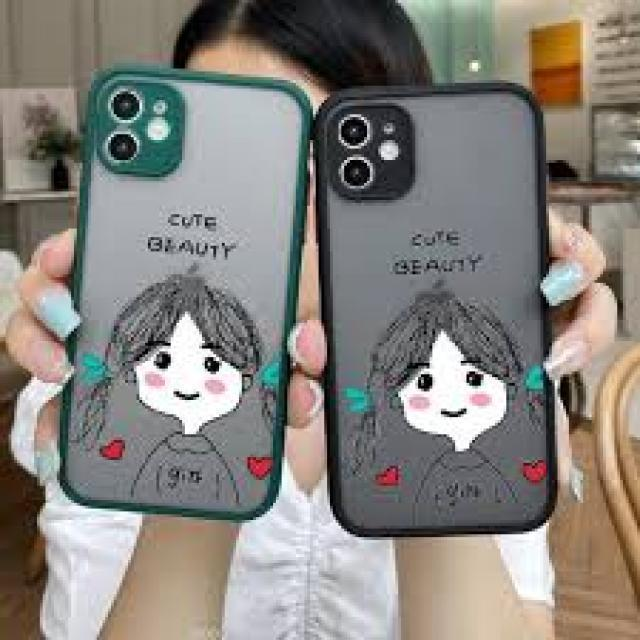lens: (98, 82, 186, 173), (325, 104, 412, 194)
phone: (314, 79, 561, 546), (77, 63, 314, 537)
